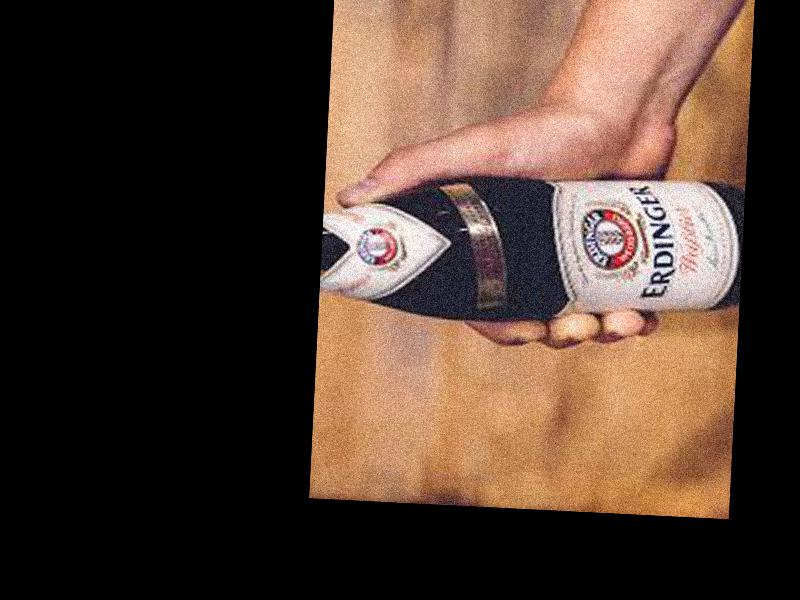Beer: (323, 160, 746, 333)
